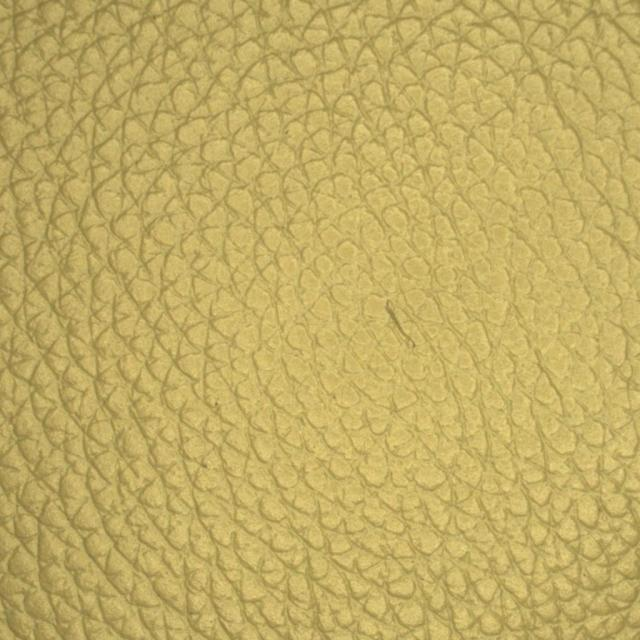Scratch: (335, 234, 450, 408)
